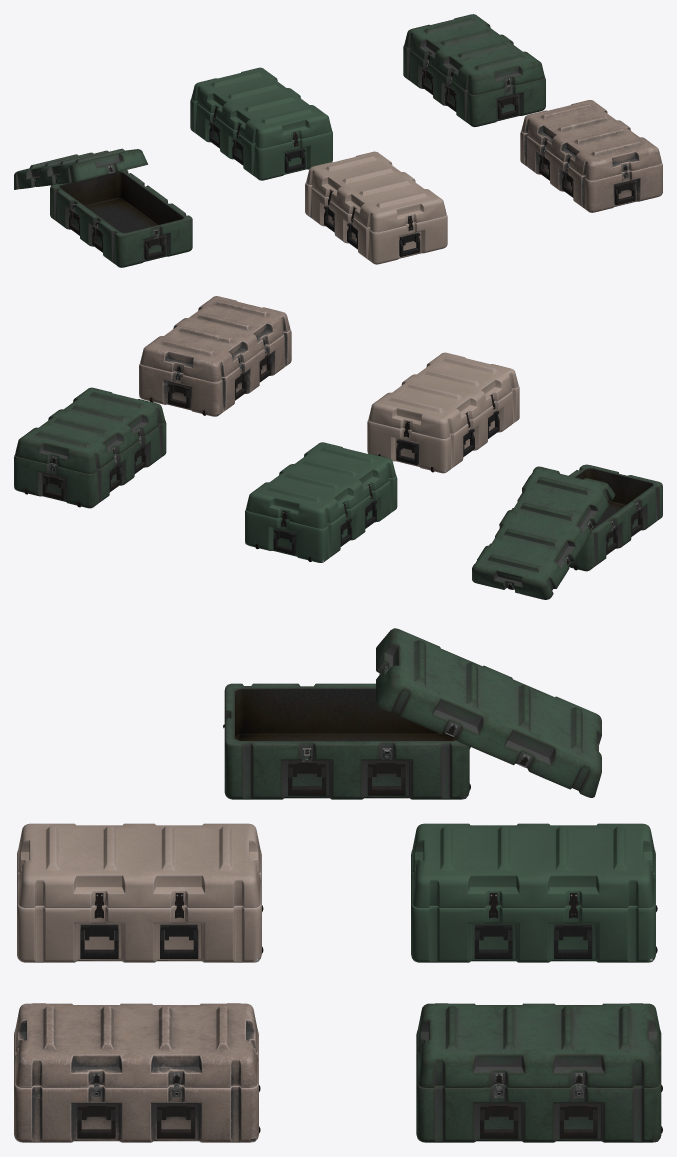
The picture shows the model from 3 angles, top to bottom: view 1: azimuth 30°, elevation 25°; view 2: azimuth 150°, elevation 25°; view 3: azimuth 270°, elevation 25°; orthographic projection. The views are drawn at different scales.
Visible parts, largest first — view 1: Box, Cap_5, Cap_4, Cap_2, Cap_3, Box_5, Box_4, Box_3, Box_2, Cap; view 2: Cap, Cap_2, Cap_3, Cap_4, Cap_5, Box_2, Box_3, Box_5, Box_4, Box; view 3: Box, Cap_3, Cap_4, Cap_2, Cap_5, Cap, Box_3, Box_5, Box_2, Box_4.
Part boxes in pixels (bbox=[...]): Box: bbox=[50, 170, 192, 267]; Cap_5: bbox=[521, 100, 661, 180]; Cap_4: bbox=[306, 151, 446, 232]; Cap_2: bbox=[191, 67, 331, 148]; Cap_3: bbox=[404, 14, 544, 94]; Box_5: bbox=[520, 131, 662, 212]; Box_4: bbox=[305, 183, 447, 264]; Box_3: bbox=[403, 45, 545, 127]; Box_2: bbox=[190, 99, 332, 180]; Cap: bbox=[14, 148, 147, 189]; Cap: bbox=[472, 466, 615, 599]; Cap_2: bbox=[246, 442, 395, 528]; Cap_3: bbox=[15, 387, 165, 473]; Cap_4: bbox=[368, 352, 518, 438]; Cap_5: bbox=[140, 296, 290, 382]; Box_2: bbox=[245, 475, 397, 562]; Box_3: bbox=[14, 421, 166, 508]; Box_5: bbox=[139, 329, 291, 416]; Box_4: bbox=[367, 386, 519, 473]; Box: bbox=[568, 464, 662, 571]; Box: bbox=[224, 683, 469, 799]; Cap_3: bbox=[417, 1003, 660, 1087]; Cap_4: bbox=[18, 823, 260, 907]; Cap_2: bbox=[412, 823, 654, 907]; Cap_5: bbox=[15, 1003, 257, 1087]; Cap: bbox=[376, 628, 601, 797]; Box_3: bbox=[416, 1030, 661, 1142]; Box_5: bbox=[14, 1030, 258, 1142]; Box_2: bbox=[411, 850, 655, 962]; Box_4: bbox=[17, 850, 261, 962].
Size of the model in its own units: 58.35 by 7.86 by 39.37.
Materials: 4 (4 with a texture image).
